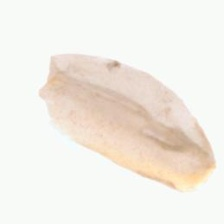L1: (38, 50, 60, 109)
L2: (38, 51, 216, 194)
